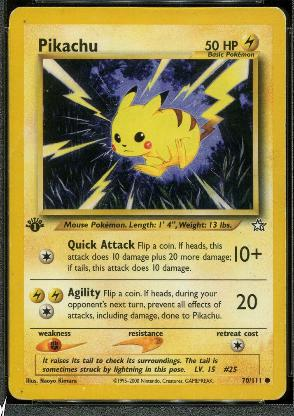Card: (7, 5, 289, 403)
Corner Wear: (7, 376, 26, 400), (274, 7, 287, 31), (274, 388, 285, 398), (9, 7, 18, 15)
Edge Wear: (282, 112, 285, 140)
Scratch: (262, 191, 284, 213), (77, 385, 88, 391), (21, 18, 26, 24)
